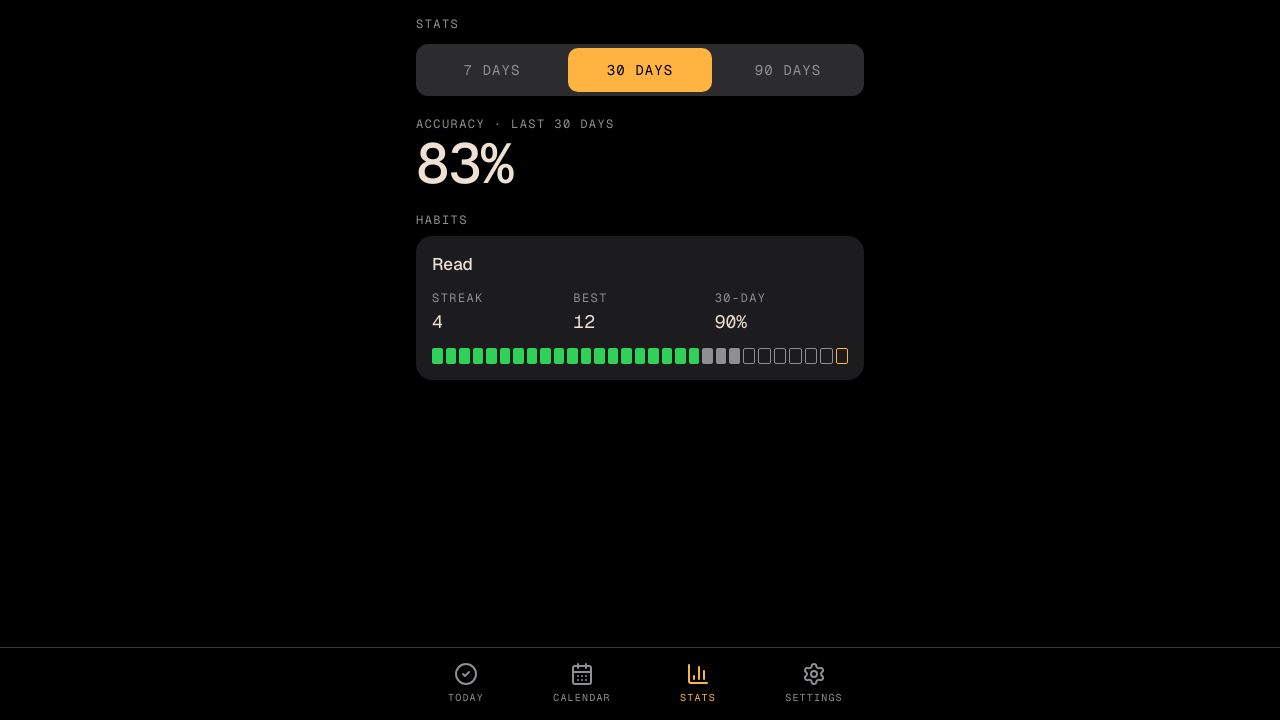
Stats › asks for the range the user picks
The width and height of the screenshot is (1280, 720).
Expected: the text "83%" is shown, [416, 127, 513, 200]
Click the radio button labelled "7 days": (492, 70) [420, 48, 564, 92]
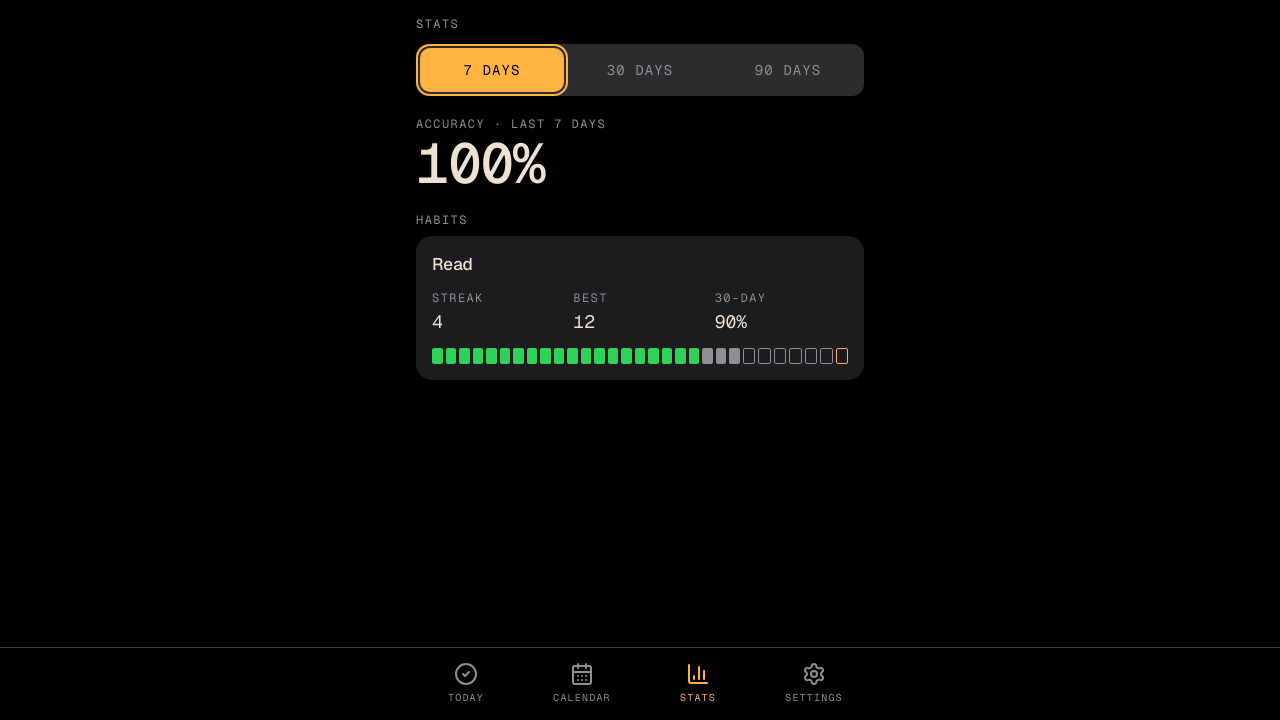
Expected: the text "100%" is shown, [416, 127, 545, 200]
Expected: the text "ACCURACY · LAST 7 DAYS" is shown, [416, 116, 606, 132]
Click the radio button labelled "90 days": (788, 70) [716, 48, 860, 92]
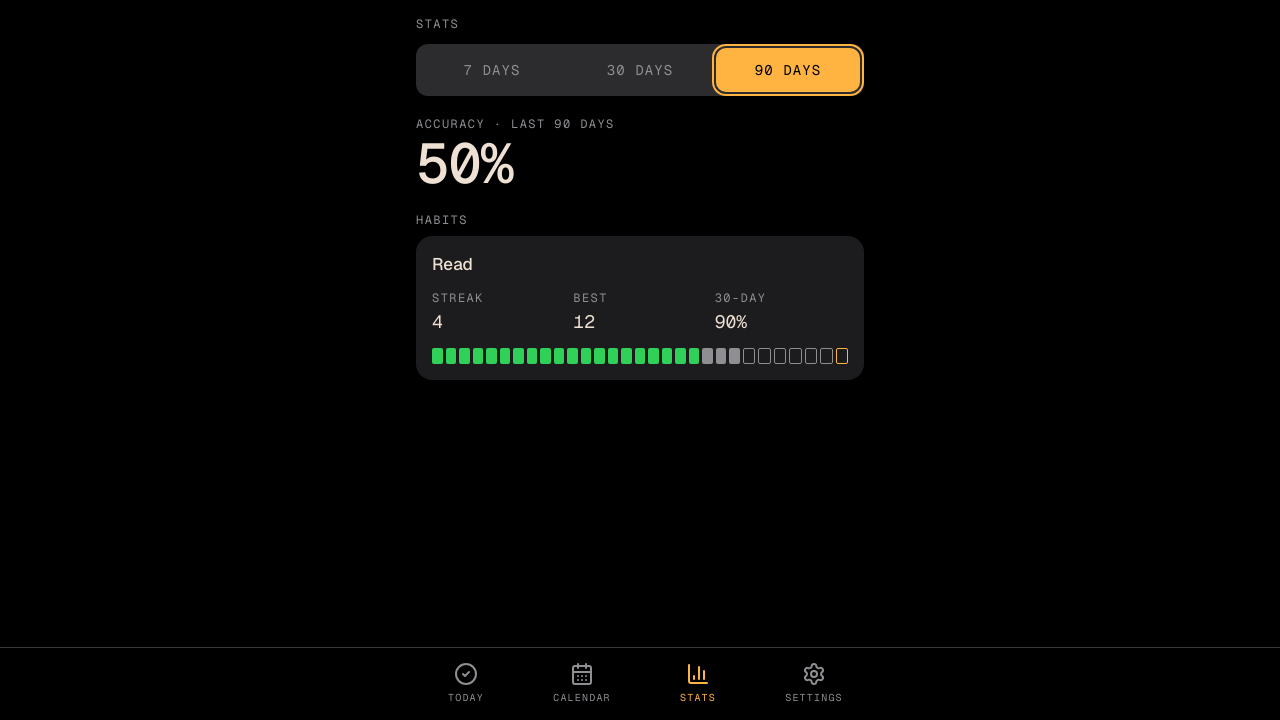
Expected: the text "50%" is shown, [416, 127, 513, 200]
